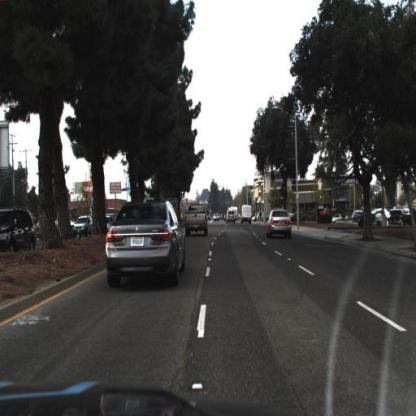car: (104, 201, 187, 285), (1, 208, 38, 257), (184, 203, 210, 239), (266, 210, 292, 244), (72, 214, 95, 241), (239, 201, 256, 228), (224, 206, 241, 228), (331, 211, 346, 228)
